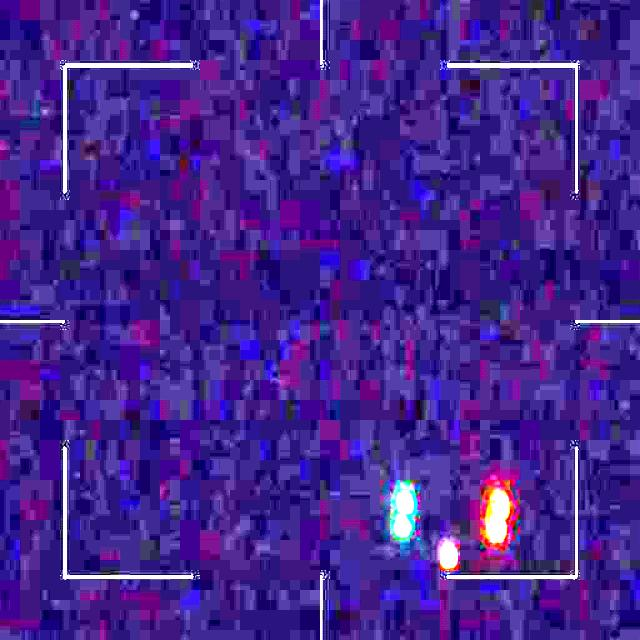bird: (392, 482, 510, 569)
